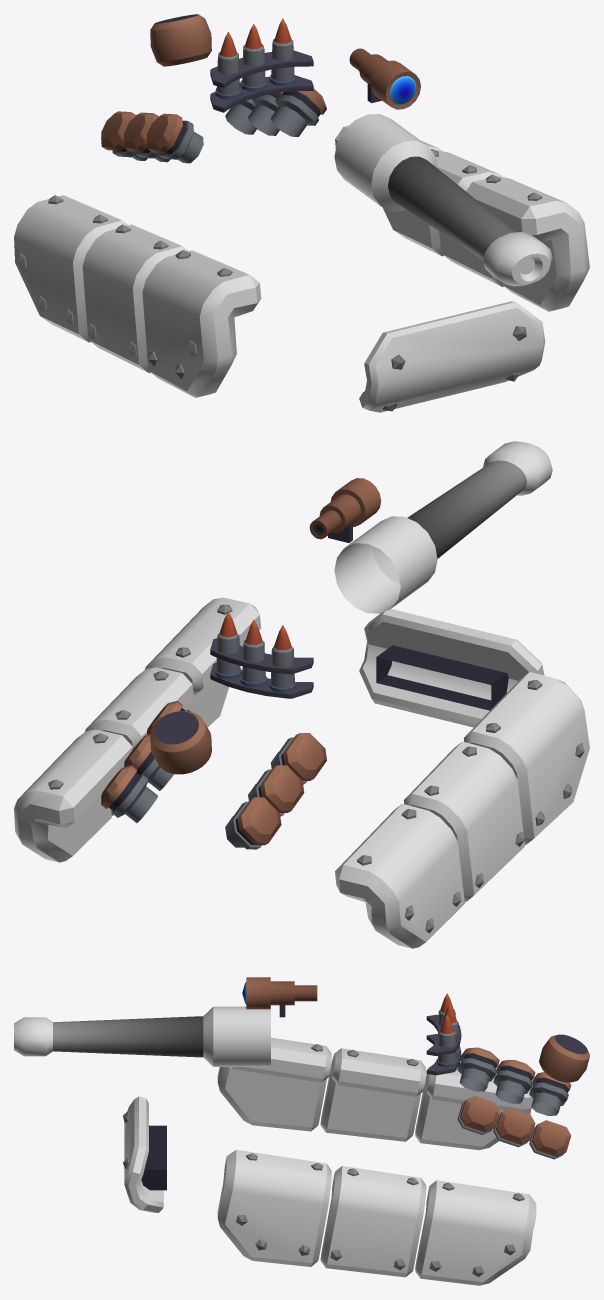
The model's file is TankUpgrades.fbx.
3 views of the same model, one above another, from view 1: azimuth 30°, elevation 25°; view 2: azimuth 150°, elevation 25°; view 3: azimuth 270°, elevation 25° (orthographic). The views are drawn at different scales.
Visible parts, largest first — view 1: ArmorUpgrade, BarrelUpgrade, EngineUpgrade, AmmoUpgrade, OpticUpgrade; view 2: ArmorUpgrade, BarrelUpgrade, EngineUpgrade, AmmoUpgrade, OpticUpgrade; view 3: ArmorUpgrade, BarrelUpgrade, EngineUpgrade, AmmoUpgrade, OpticUpgrade.
Part boxes in pixels (left/top/right/bottom): ArmorUpgrade: left=14, top=125, right=589, bottom=412; BarrelUpgrade: left=334, top=114, right=552, bottom=286; EngineUpgrade: left=101, top=14, right=326, bottom=163; AmmoUpgrade: left=210, top=18, right=313, bottom=112; OpticUpgrade: left=349, top=48, right=420, bottom=109; ArmorUpgrade: left=14, top=597, right=589, bottom=948; BarrelUpgrade: left=334, top=441, right=552, bottom=613; EngineUpgrade: left=101, top=701, right=326, bottom=849; AmmoUpgrade: left=210, top=611, right=313, bottom=698; OpticUpgrade: left=309, top=478, right=381, bottom=542; ArmorUpgrade: left=123, top=1037, right=536, bottom=1285; BarrelUpgrade: left=14, top=1006, right=270, bottom=1066; EngineUpgrade: left=457, top=1034, right=589, bottom=1159; AmmoUpgrade: left=426, top=993, right=461, bottom=1075; OpticUpgrade: left=242, top=977, right=317, bottom=1017.
Size of the model in its own units: 489 by 366 by 782.
